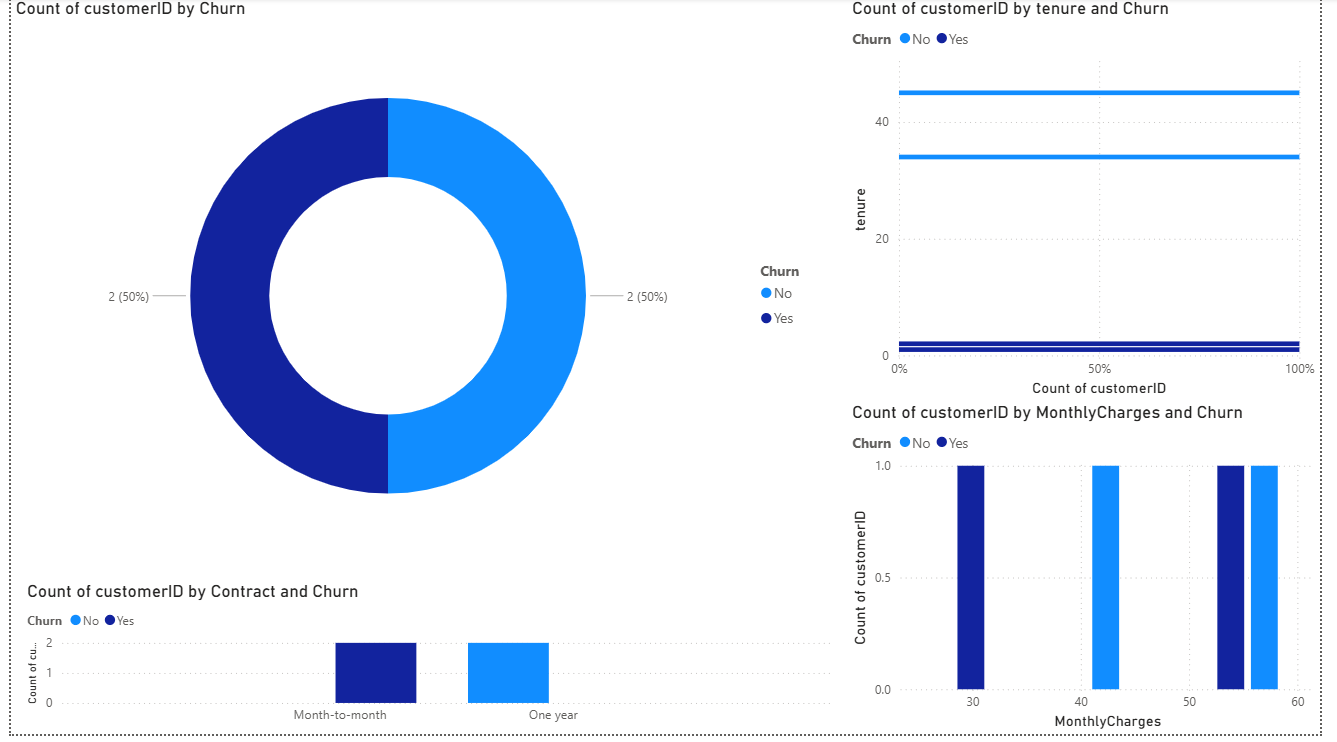

This screenshot's page, from the dashboard's own definition file:
{"tool":"powerbi","page":{"name":"Page 1","canvas":[1280,720],"ordinal":0},"visuals":[{"type":"donutChart","fields":{"Category":["customer_churn_clean.Churn"],"Y":["CountNonNull(customer_churn_clean.customerID)"]},"box":[10.8,0,796.4,563.2],"z":0},{"type":"clusteredColumnChart","fields":{"Category":["customer_churn_clean.Contract"],"Y":["CountNonNull(customer_churn_clean.customerID)"],"Series":["customer_churn_clean.Churn"]},"box":[11,570,796,150],"z":2},{"type":"hundredPercentStackedBarChart","fields":{"Category":["customer_churn_clean.tenure"],"Y":["CountNonNull(customer_churn_clean.customerID)"],"Series":["customer_churn_clean.Churn"]},"box":[817.5,0,462.5,395],"z":3},{"type":"columnChart","fields":{"Category":["customer_churn_clean.MonthlyCharges"],"Y":["CountNonNull(customer_churn_clean.customerID)"],"Series":["customer_churn_clean.Churn"]},"box":[817.5,395,462.5,325],"z":4}]}

Visuals, with their boxes in screenshot pixels (x1, y1, x2, y2), scaled from the page's 1280x720 canvas onto the 1337x742 screenshot:
donutChart - customer_churn_clean.Churn x CountNonNull(customer_churn_clean.customerID): bbox=[11, 0, 843, 580]
clusteredColumnChart - customer_churn_clean.Contract x CountNonNull(customer_churn_clean.customerID): bbox=[11, 587, 843, 741]
hundredPercentStackedBarChart - customer_churn_clean.tenure x CountNonNull(customer_churn_clean.customerID): bbox=[854, 0, 1336, 407]
columnChart - customer_churn_clean.MonthlyCharges x CountNonNull(customer_churn_clean.customerID): bbox=[854, 407, 1336, 741]
